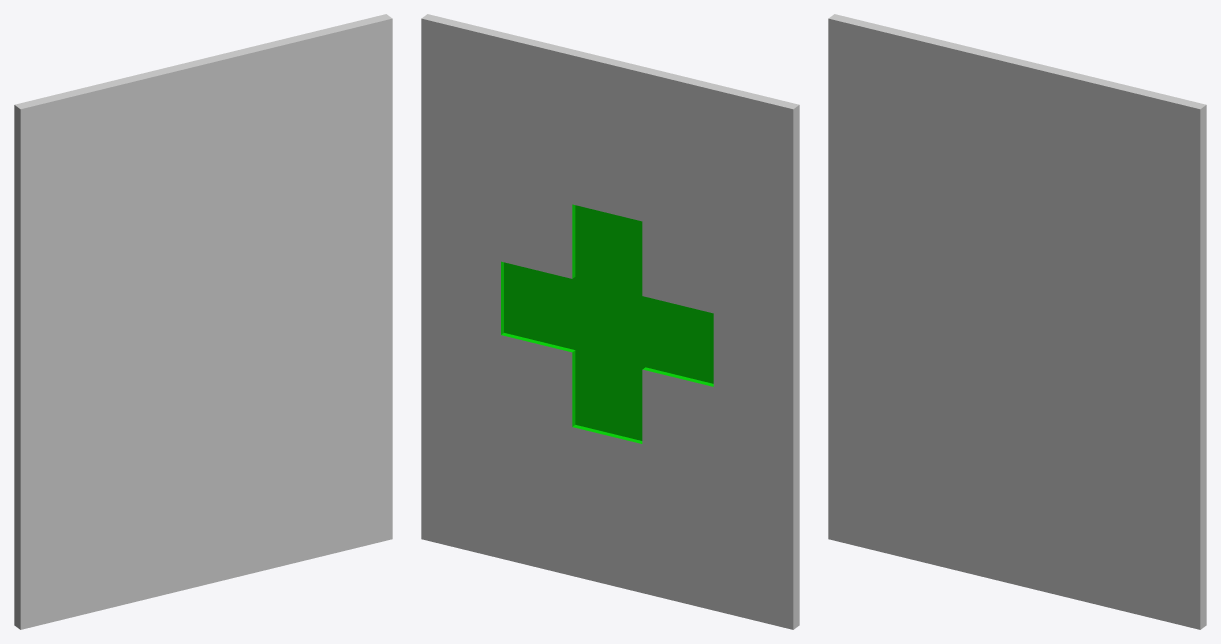
File: green_cruciform.dae
The picture shows the model from 3 angles, left to right: view 1: azimuth 30°, elevation 25°; view 2: azimuth 150°, elevation 25°; view 3: azimuth 330°, elevation 25°; orthographic projection.
Parts seen in each view (by area): view 1: ShapeIndexedFaceSet; view 2: ShapeIndexedFaceSet; view 3: ShapeIndexedFaceSet.
Boxes of the visible parts, x1=… form: ShapeIndexedFaceSet: x1=14, y1=14, x2=392, y2=629; ShapeIndexedFaceSet: x1=421, y1=14, x2=799, y2=629; ShapeIndexedFaceSet: x1=828, y1=14, x2=1206, y2=629.
Size of the model in its own units: 1.75 by 0.0508 by 2.34.
